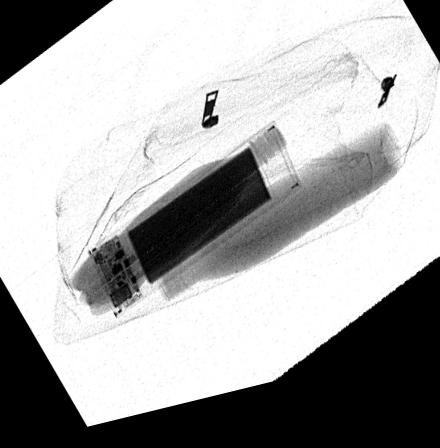Powerbank: (85, 134, 303, 325)
